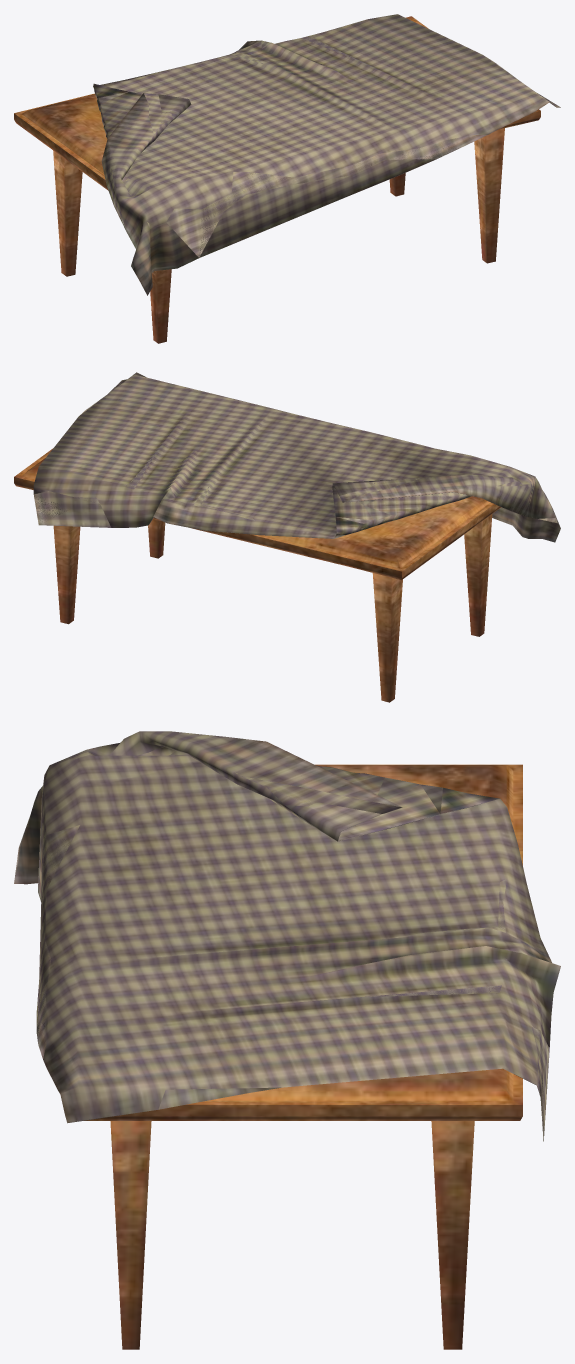
The model's file is dining_table.glb.
3 views of the same model, one above another, from view 1: azimuth 30°, elevation 25°; view 2: azimuth 150°, elevation 25°; view 3: azimuth 270°, elevation 25° (orthographic). The views are drawn at different scales.
Parts seen in each view (by area): view 1: dining_table_cloth, dining_table; view 2: dining_table_cloth, dining_table; view 3: dining_table_cloth, dining_table.
Boxes of the visible parts, box(x1,y1,x2,y2) form: dining_table_cloth: box(93, 14, 560, 295); dining_table: box(14, 16, 540, 343); dining_table_cloth: box(33, 372, 560, 542); dining_table: box(14, 448, 501, 702); dining_table_cloth: box(14, 731, 560, 1141); dining_table: box(84, 764, 522, 1349).
Bounding box in the file's own units: 2.26 × 0.8774 × 1.39.
1 material, 1 textured.
